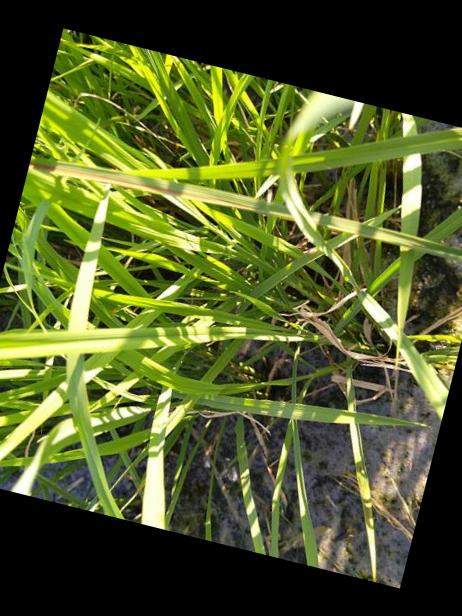Leaf Streak: (28, 162, 289, 215)
